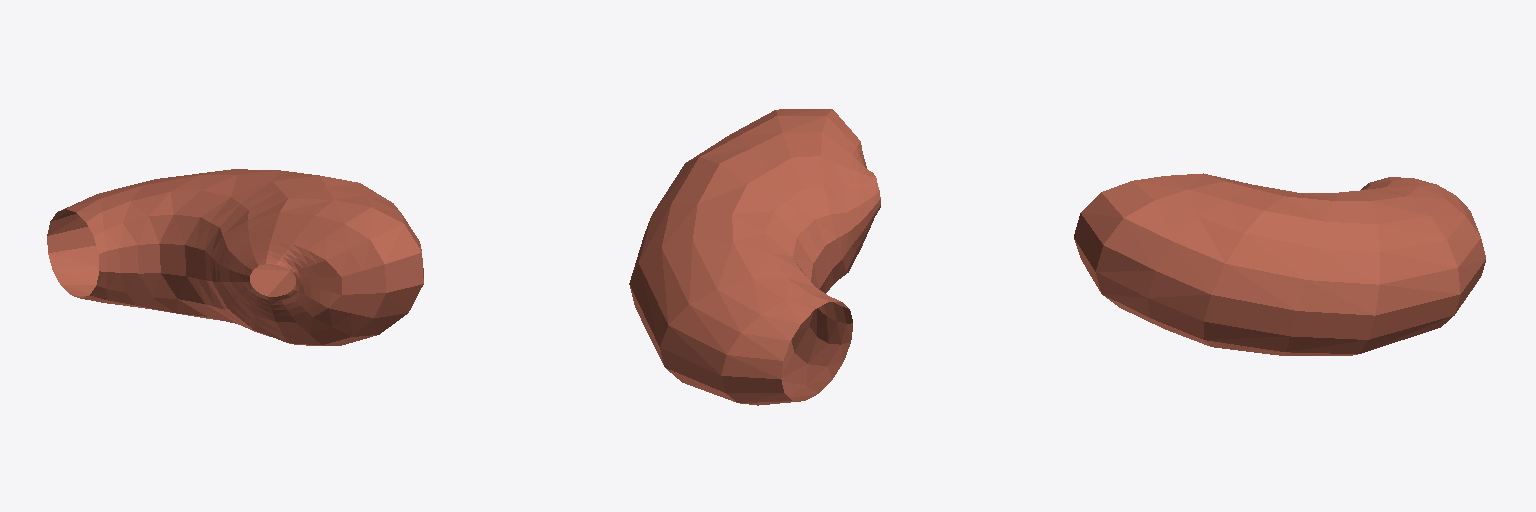
Rendered from fundus_refined.obj.
3 renders of one model, left to right at view 1: azimuth 30°, elevation 25°; view 2: azimuth 150°, elevation 25°; view 3: azimuth 270°, elevation 25°, orthographic.
Parts seen in each view (by area): view 1: fundus_refined_fundus.032; view 2: fundus_refined_fundus.032; view 3: fundus_refined_fundus.032.
Boxes of the visible parts, x1,y1,x2,y2 form: fundus_refined_fundus.032: [47, 169, 423, 345]; fundus_refined_fundus.032: [629, 109, 880, 405]; fundus_refined_fundus.032: [1074, 173, 1485, 355].
Size of the model in its own units: 7.93 by 5.15 by 11.68.